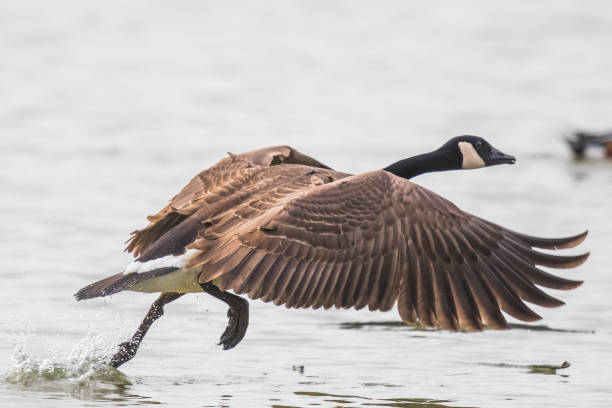goose: (73, 132, 520, 376)
